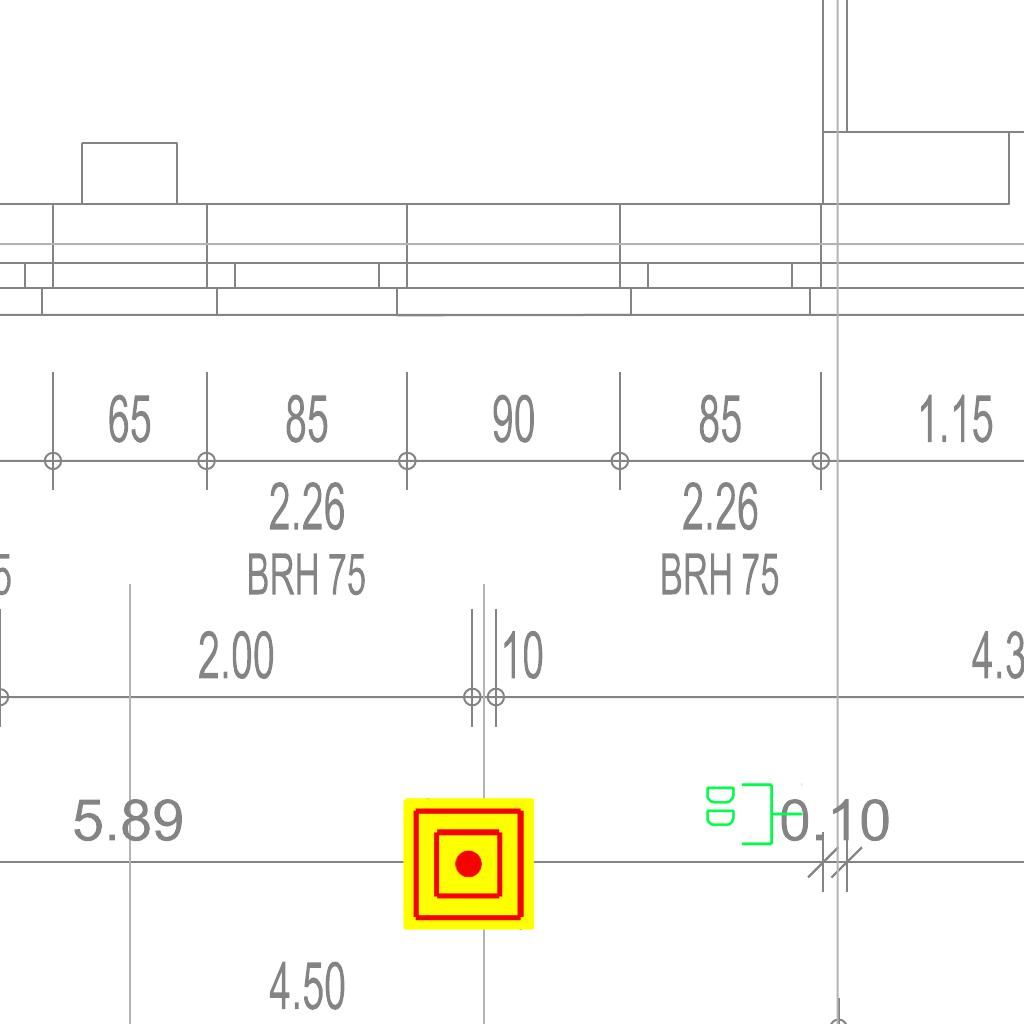Datenanschluss_zweifach: (702, 779, 805, 848)
NAM-Nichtautomatischer_Melder: (403, 798, 535, 930)
